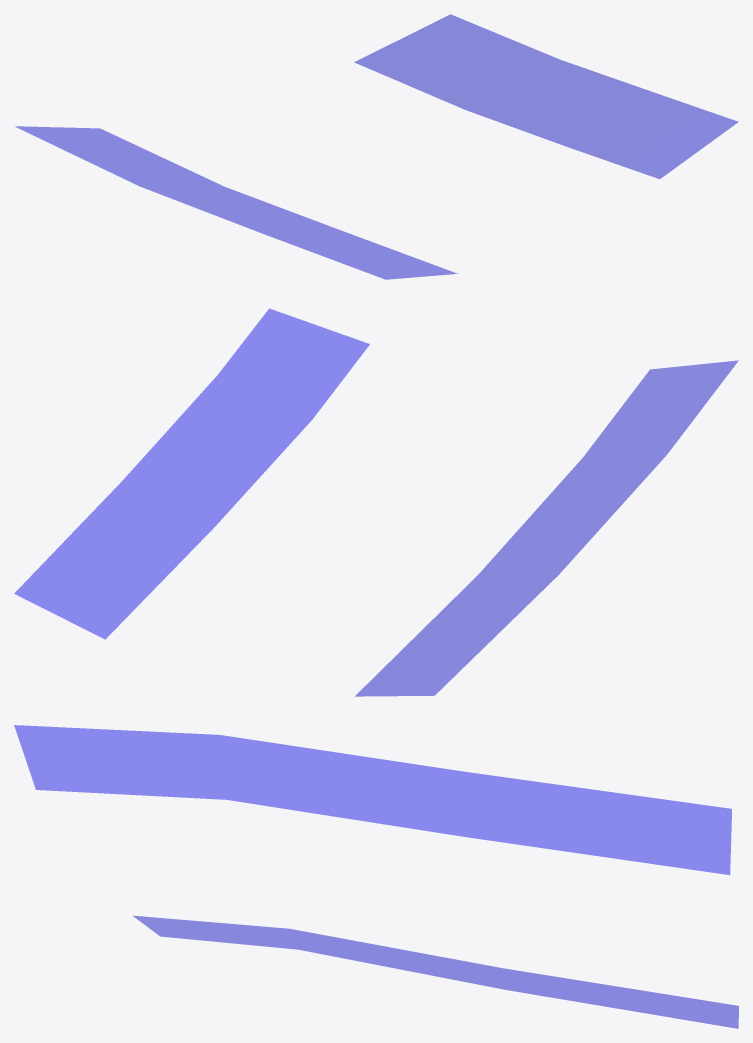
File: track_la_coll_off_07.fbx
3 views of the same model, one above another, from view 1: azimuth 30°, elevation 25°; view 2: azimuth 150°, elevation 25°; view 3: azimuth 270°, elevation 25° (orthographic). The views are drawn at different scales.
Parts seen in each view (by area): view 1: track_la_coll_off_07; view 2: track_la_coll_off_07; view 3: track_la_coll_off_07.
Boxes of the visible parts, x1=… form: track_la_coll_off_07: x1=15, y1=14, x2=738, y2=279; track_la_coll_off_07: x1=14, y1=308, x2=738, y2=696; track_la_coll_off_07: x1=14, y1=725, x2=738, y2=1028.
Size of the model in its own units: 37.61 by 9.43 by 50.32.
